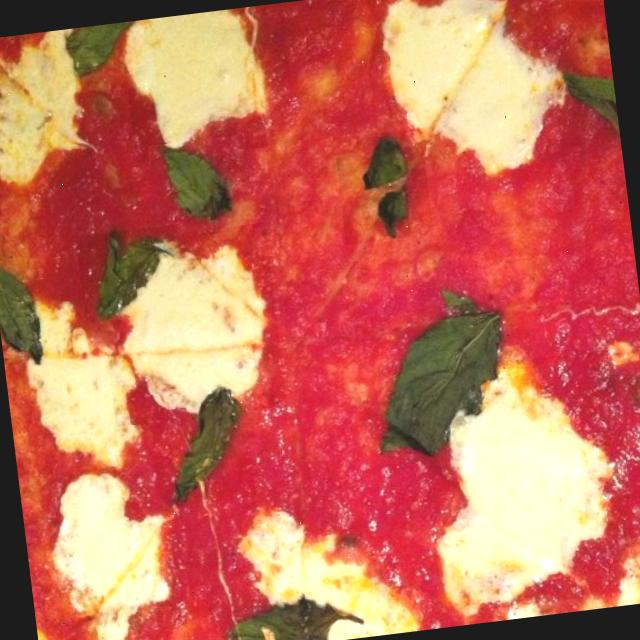basil: (351, 296, 543, 474), (146, 383, 255, 508), (332, 128, 432, 245), (74, 224, 187, 323), (147, 134, 249, 232), (218, 581, 361, 640), (549, 53, 622, 164), (51, 19, 155, 96), (0, 237, 53, 382)
cheese: (412, 348, 640, 614), (92, 222, 288, 427), (26, 459, 192, 640), (11, 285, 150, 478), (118, 6, 266, 162), (0, 28, 94, 201)
pizza: (0, 0, 640, 640)
